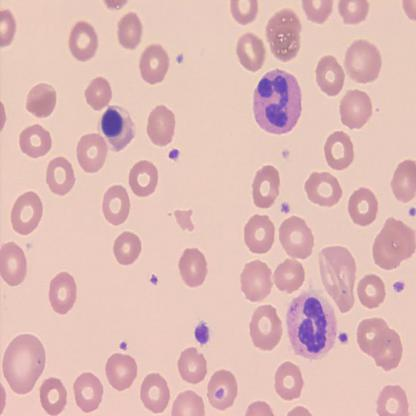NRC: (96, 105, 135, 154)
